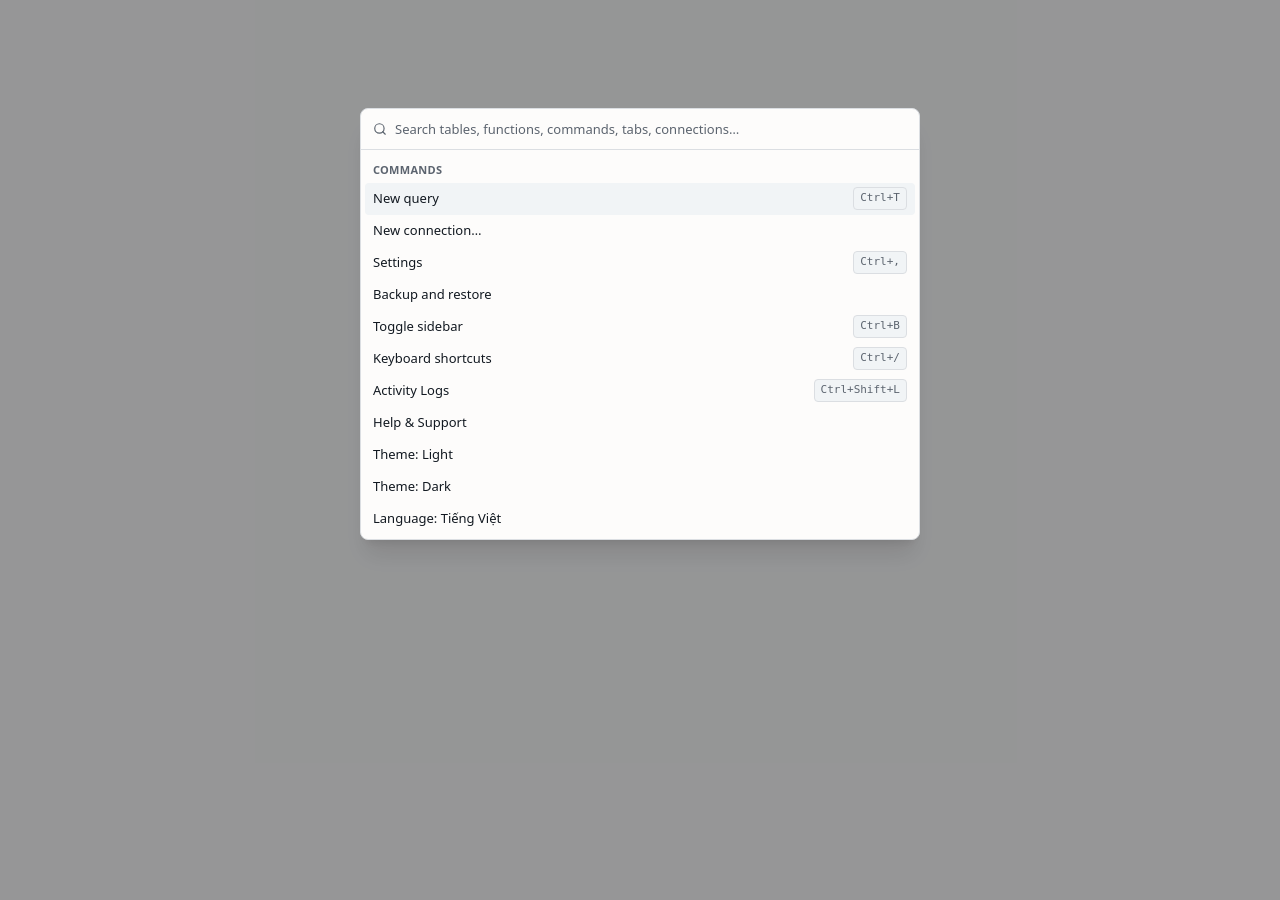
Test case: Spotlight: objects of the open connections › lists the objects by kind: tables, procedures, sequences
The image size is (1280, 900).
Type "order" into the dropdown named "Command palette".
click(651, 129); type("order")  # box [395,109,907,149]
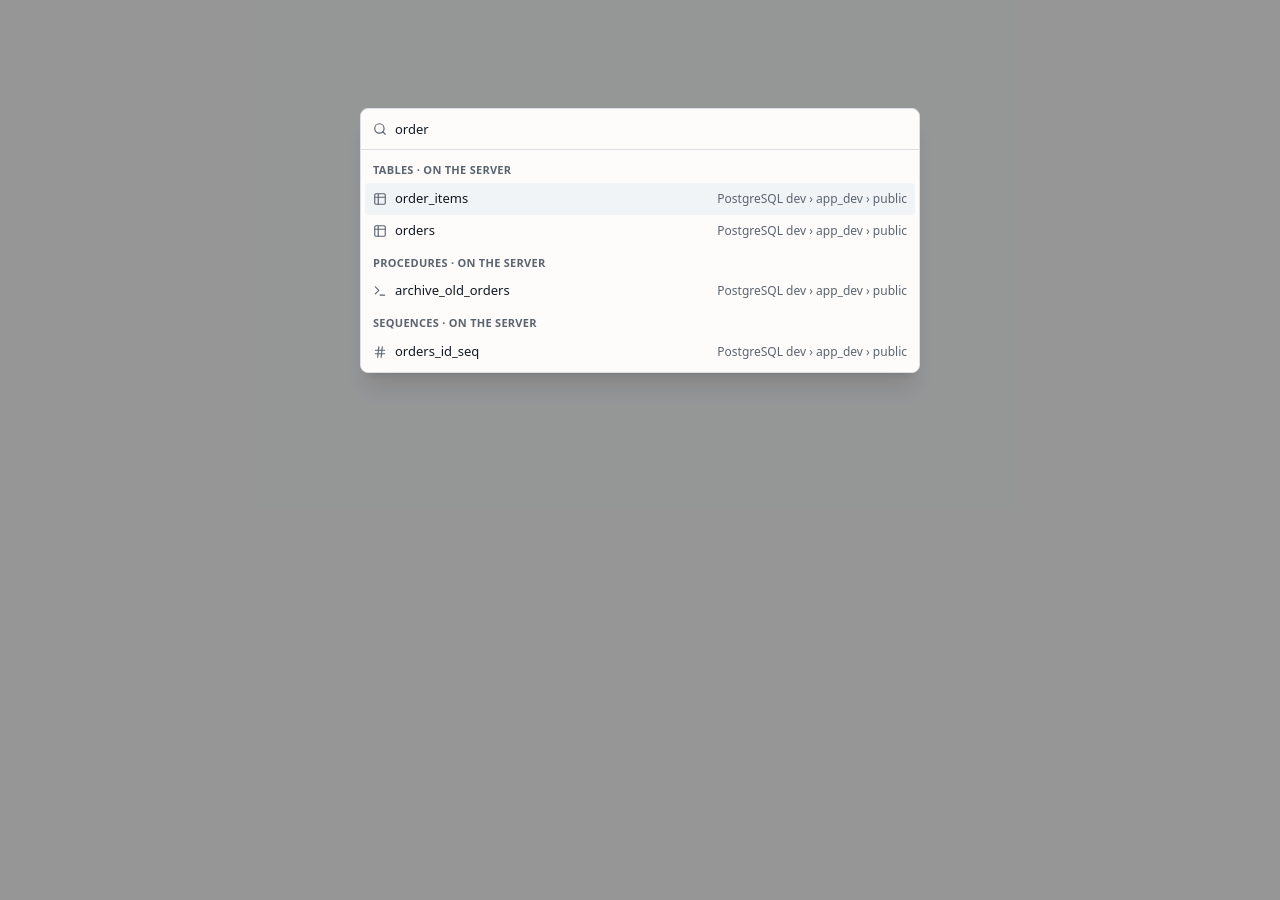
Expected: the option "archive_old_orders PostgreSQL dev › app_dev › public" is shown, [373,281,907,299]
